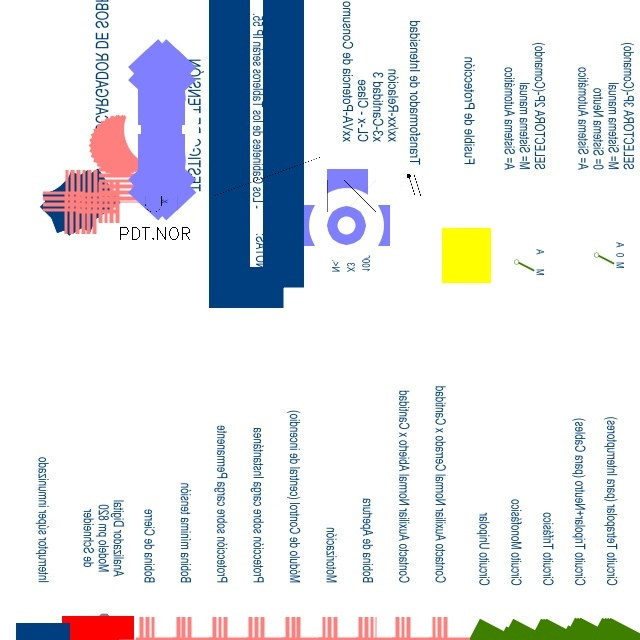interruptor_termomagnetico: (118, 150, 399, 219)
